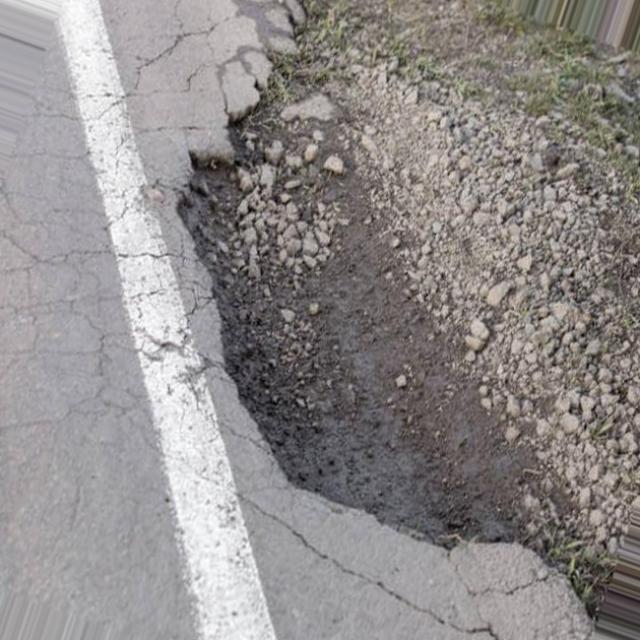Pinggir: (157, 8, 574, 585)
